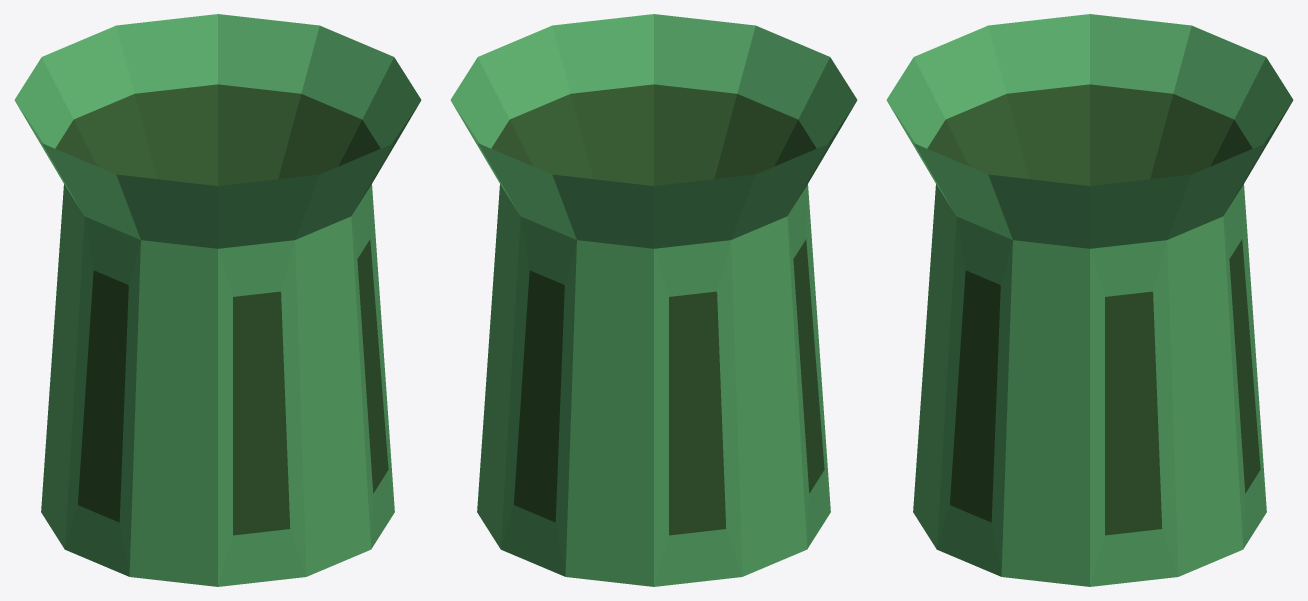
File: kos.fbx
The picture shows the model from 3 angles, left to right: view 1: azimuth 30°, elevation 25°; view 2: azimuth 150°, elevation 25°; view 3: azimuth 270°, elevation 25°; orthographic projection.
Visible parts, largest first — view 1: Cylinder; view 2: Cylinder; view 3: Cylinder.
Part boxes in pixels (left/top/right/bottom): Cylinder: left=14, top=14, right=421, bottom=586; Cylinder: left=450, top=14, right=857, bottom=586; Cylinder: left=886, top=14, right=1293, bottom=586.
Bounding box in the file's own units: 130 × 146 × 130.
